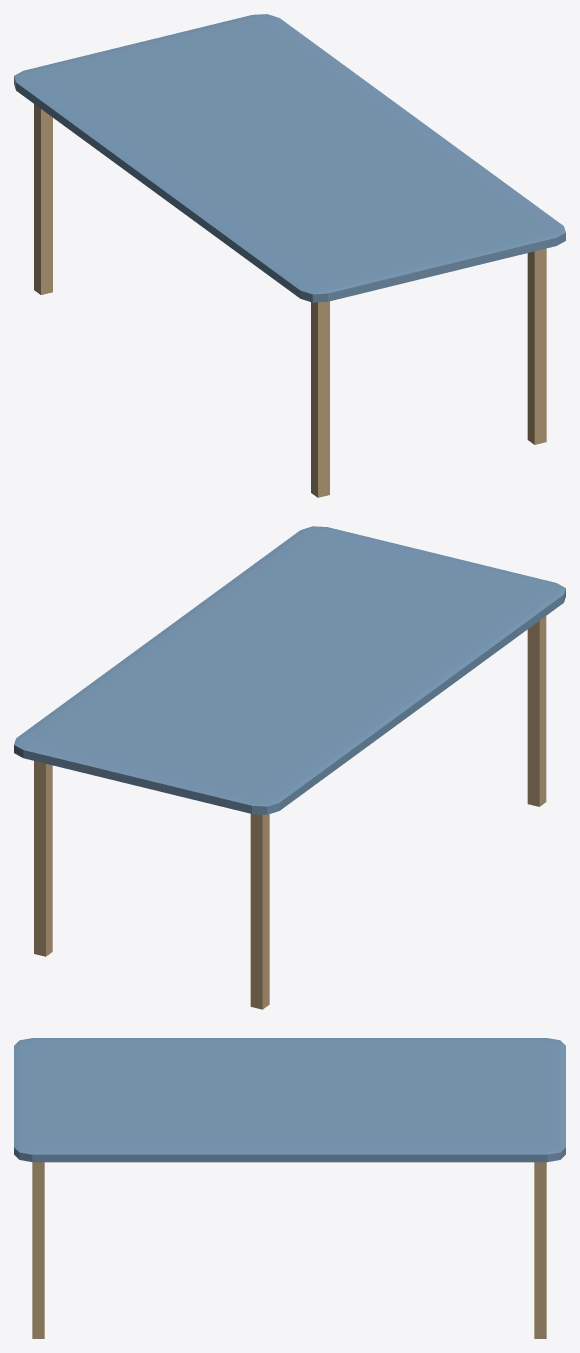
The model's file is Table_02.glb.
The picture shows the model from 3 angles, top to bottom: view 1: azimuth 30°, elevation 25°; view 2: azimuth 150°, elevation 25°; view 3: azimuth 270°, elevation 25°; orthographic projection. The views are drawn at different scales.
Parts seen in each view (by area): view 1: Table_02; view 2: Table_02; view 3: Table_02.
Boxes of the visible parts, left/top/right/bottom form: Table_02: left=14, top=14, right=565, bottom=497; Table_02: left=14, top=526, right=565, bottom=1009; Table_02: left=14, top=1038, right=565, bottom=1338.
Size of what is drawn, in the model's own units: 1.28 by 0.9831 by 2.56.
1 material, 1 textured.
